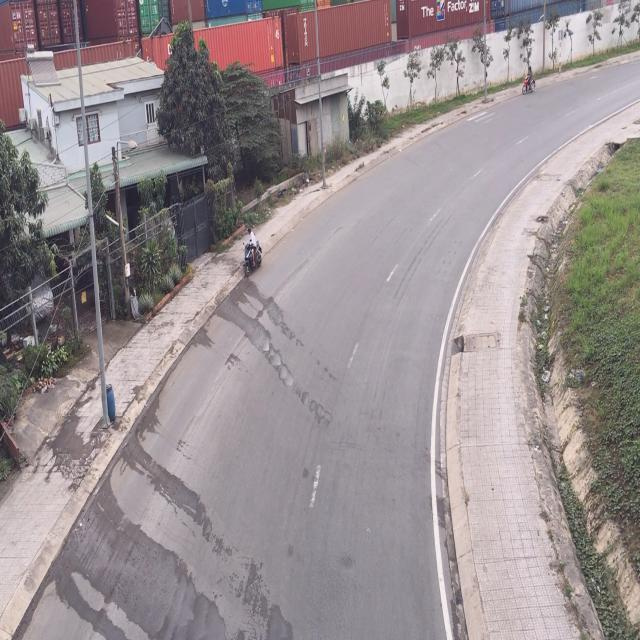motorbike: (243, 230, 263, 278), (522, 56, 537, 98)
